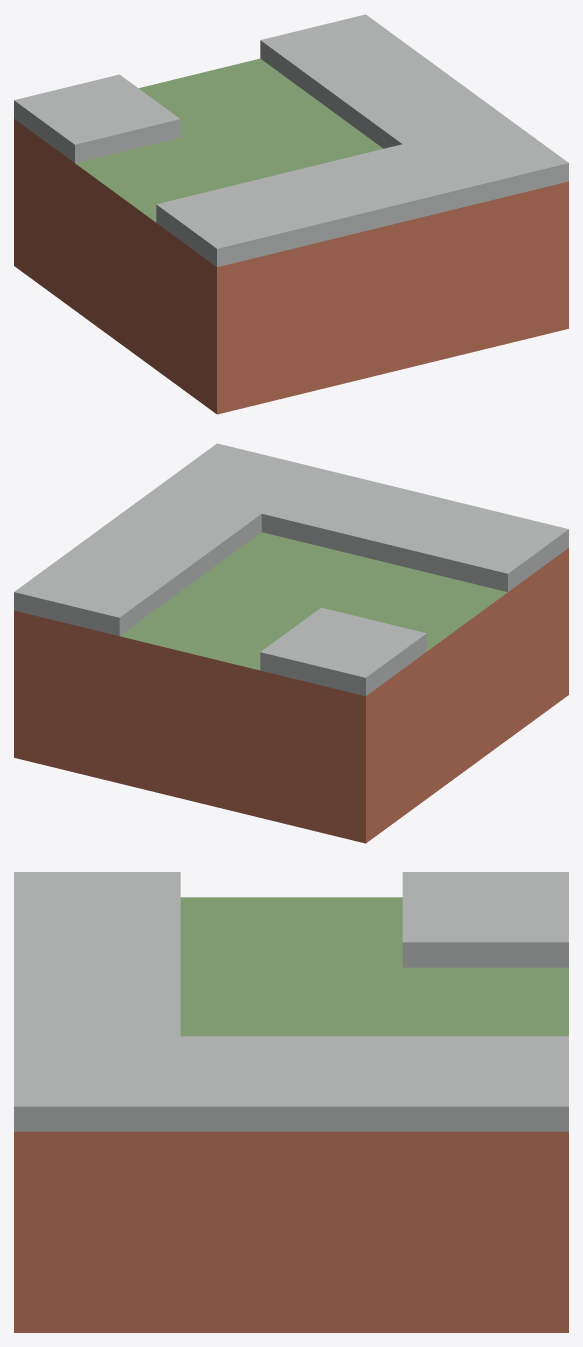
Rendered from Cenarios.fbx_Grounds_Planes.fbx.
3 views of the same model, one above another, from view 1: azimuth 30°, elevation 25°; view 2: azimuth 150°, elevation 25°; view 3: azimuth 270°, elevation 25° (orthographic). The views are drawn at different scales.
Visible parts, largest first — view 1: GrassGround, SideWalk V3, SideWalk V2, SideWalk V1; view 2: GrassGround, SideWalk V2, SideWalk V1, SideWalk V3; view 3: SideWalk V2, GrassGround, SideWalk V3, SideWalk V1.
Boxes of the visible parts, bbox=[...] form: GrassGround: bbox=[14, 119, 568, 414]; SideWalk V3: bbox=[14, 14, 568, 411]; SideWalk V2: bbox=[14, 58, 568, 412]; SideWalk V1: bbox=[78, 14, 568, 413]; GrassGround: bbox=[14, 532, 568, 842]; SideWalk V2: bbox=[14, 532, 568, 843]; SideWalk V1: bbox=[14, 443, 507, 811]; SideWalk V3: bbox=[16, 444, 568, 842]; SideWalk V2: bbox=[14, 872, 568, 1332]; GrassGround: bbox=[14, 897, 568, 1332]; SideWalk V3: bbox=[14, 872, 568, 1332]; SideWalk V1: bbox=[14, 897, 568, 1131].
Bounding box in the file's own units: 1000 × 450 × 1000.
